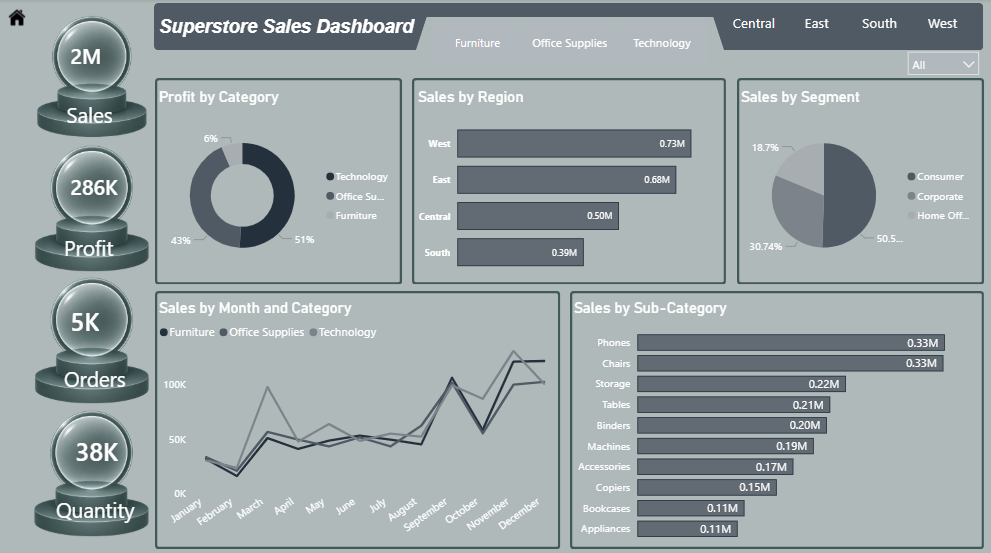

The page's visual inventory and layout, read from the dashboard file:
{"tool":"powerbi","page":{"name":"Dashboard","canvas":[1280,720],"ordinal":1},"visuals":[{"type":"shape","box":[198.4,5.7,1070.1,60.9],"z":0},{"type":"shape","box":[534.3,22.7,402.5,49.6],"z":1000},{"type":"shape","box":[199.8,102,318.9,266.5],"z":2000},{"type":"shape","box":[531.5,102,405.4,266.5],"z":3000},{"type":"shape","box":[735.6,377,534.3,333.1],"z":4000},{"type":"shape","box":[199.8,377,523,333.1],"z":5000},{"type":"image","box":[0,508.8,236.1,211.1],"z":6000},{"type":"image","box":[0,0,236.7,202.7],"z":7000},{"type":"image","box":[0,165.8,236.7,211.2],"z":8000},{"type":"image","box":[0,337.3,236.7,211.2],"z":9000},{"type":"shape","box":[951,102,318.9,266.5],"z":10000},{"type":"textbox","box":[199.8,17,347.2,55.3],"z":11000},{"type":"slicer","fields":{"Values":["Sample - Superstore.Region"]},"box":[907.1,0,372.9,61.9],"z":12000},{"type":"slicer","fields":{"Values":["Sample - Superstore.Category"]},"box":[531.5,22.7,405.4,66.6],"z":13000},{"type":"cardVisual","fields":{"Data":["Sum(Sample - Superstore.Sales)"]},"box":[62.4,12.8,160.2,117.6],"z":14000},{"type":"cardVisual","fields":{"Data":["Sum(Sample - Superstore.Sales)"]},"box":[57.2,114.4,133.4,66],"z":15000},{"type":"cardVisual","fields":{"Data":["Sum(Sample - Superstore.Profit)"]},"box":[62.4,194.2,174.3,95],"z":16000},{"type":"cardVisual","fields":{"Data":["Count(Sample - Superstore.Order ID)"]},"box":[62.4,360,174.3,107.7],"z":17000},{"type":"cardVisual","fields":{"Data":["Sum(Sample - Superstore.Quantity)"]},"box":[68,521.6,174.3,120.5],"z":18000},{"type":"textbox","box":[77.7,297.6,101.2,51.3],"z":19000},{"type":"textbox","box":[77.7,467.7,101.2,54.2],"z":20000},{"type":"textbox","box":[67.4,636.3,156.9,58.6],"z":21000},{"type":"donutChart","title":"Profit by Category","fields":{"Category":["Sample - Superstore.Category"],"Y":["Sum(Sample - Superstore.Profit)"]},"box":[199.4,114.4,318.2,255.1],"z":22000},{"type":"lineChart","title":"Sales by Month and Category","fields":{"Y":["Sum(Sample - Superstore.Sales)"],"Series":["Sample - Superstore.Category"],"Category":["Sample - Superstore.Order Date.Variation.Date Hierarchy.Month"]},"box":[199.8,386.9,523,323.1],"z":23000},{"type":"clusteredBarChart","title":"Sales by Region","fields":{"Category":["Sample - Superstore.Region"],"Y":["Sum(Sample - Superstore.Sales)"]},"box":[534.3,114.8,402.5,255.1],"z":24000},{"type":"clusteredBarChart","title":"Sales by Sub-Category","fields":{"Category":["Sample - Superstore.Sub-Category"],"Y":["Sum(Sample - Superstore.Sales)"]},"box":[735.6,386.9,534.3,323.1],"z":25000},{"type":"pieChart","title":"Sales by Segment","fields":{"Category":["Sample - Superstore.Segment"],"Y":["Sum(Sample - Superstore.Sales)"]},"box":[951,114.8,317.5,255.1],"z":26000},{"type":"actionButton","box":[0,0,43.9,47.7],"z":27000},{"type":"slicer","fields":{"Values":["Sample - Superstore.Order Date.Variation.Date Hierarchy.Year"]},"box":[1161.3,58.1,112.3,46.5],"z":27001}]}

Visuals, with their boxes in screenshot pixels (x1, y1, x2, y2), scaled from the page's 1280x720 canvas onto the 991x553 screenshot:
shape: 154/4/982/51
shape: 414/17/725/56
shape: 155/78/402/283
shape: 411/78/725/283
shape: 570/290/983/545
shape: 155/290/560/545
image: 0/391/183/552
image: 0/0/183/156
image: 0/127/183/290
image: 0/259/183/421
shape: 736/78/983/283
textbox: 155/13/423/56
slicer - Sample - Superstore.Region: 702/0/990/48
slicer - Sample - Superstore.Category: 411/17/725/69
cardVisual - Sum(Sample - Superstore.Sales): 48/10/172/100
cardVisual - Sum(Sample - Superstore.Sales): 44/88/148/139
cardVisual - Sum(Sample - Superstore.Profit): 48/149/183/222
cardVisual - Count(Sample - Superstore.Order ID): 48/276/183/359
cardVisual - Sum(Sample - Superstore.Quantity): 53/401/188/493
textbox: 60/229/139/268
textbox: 60/359/139/401
textbox: 52/489/174/534
"Profit by Category" donutChart: 154/88/401/284
"Sales by Month and Category" lineChart: 155/297/560/545
"Sales by Region" clusteredBarChart: 414/88/725/284
"Sales by Sub-Category" clusteredBarChart: 570/297/983/545
"Sales by Segment" pieChart: 736/88/982/284
actionButton: 0/0/34/37
slicer - Sample - Superstore.Order Date.Variation.Date Hierarchy.Year: 899/45/986/80
